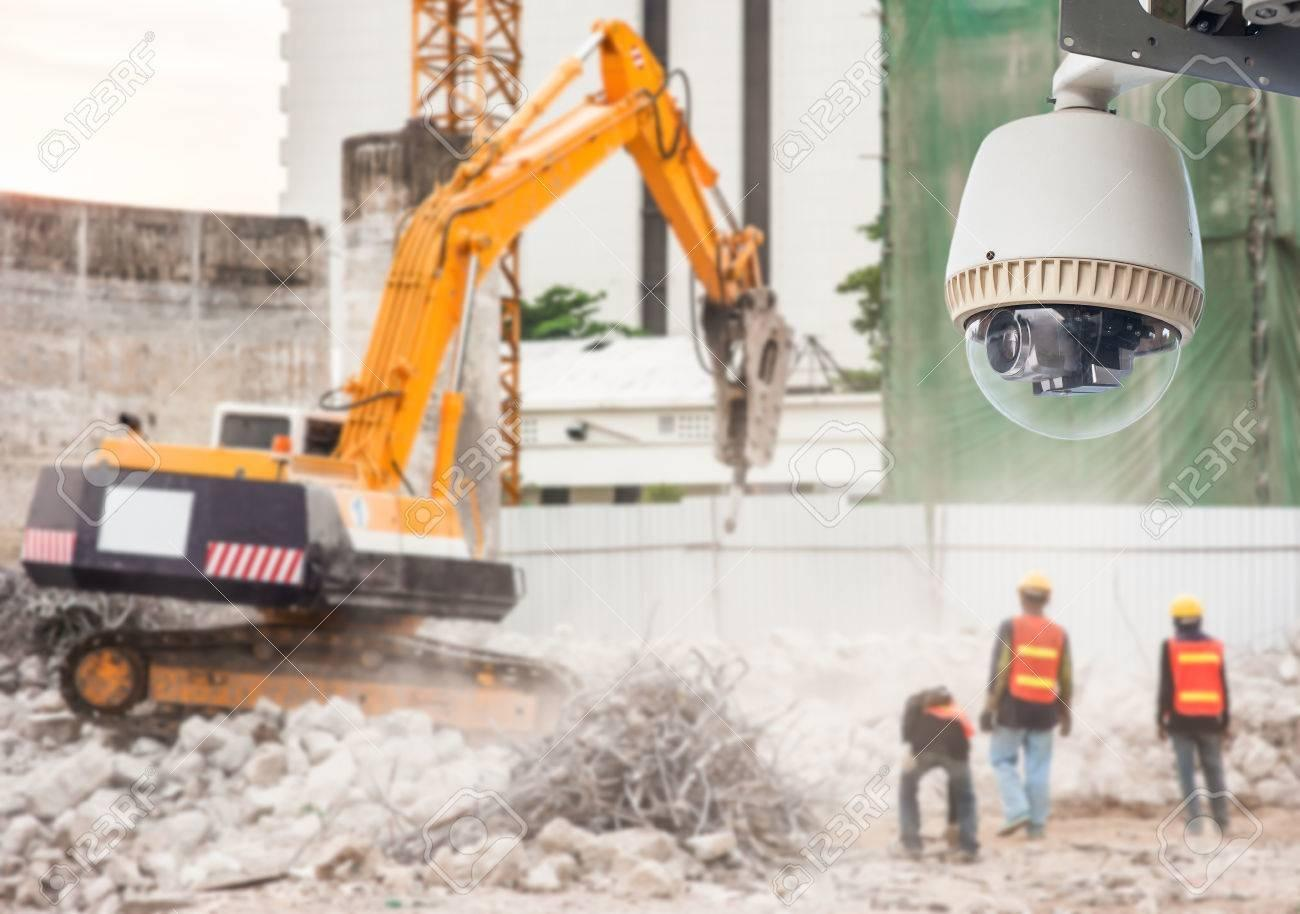Vest: (997, 614, 1071, 716), (1155, 632, 1230, 722)
